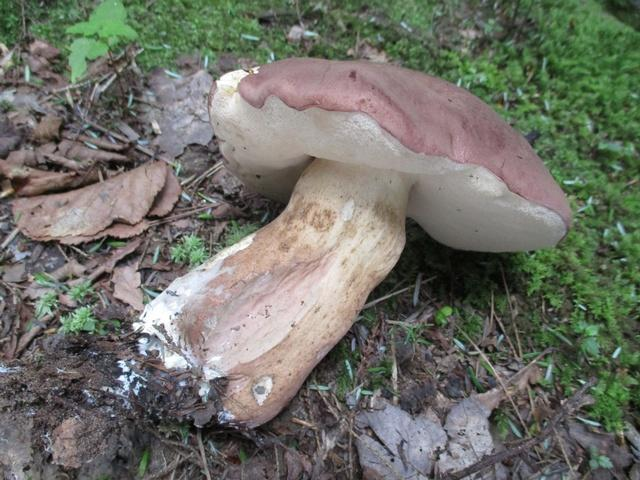Non-edible Mushroom: (132, 55, 573, 432)
